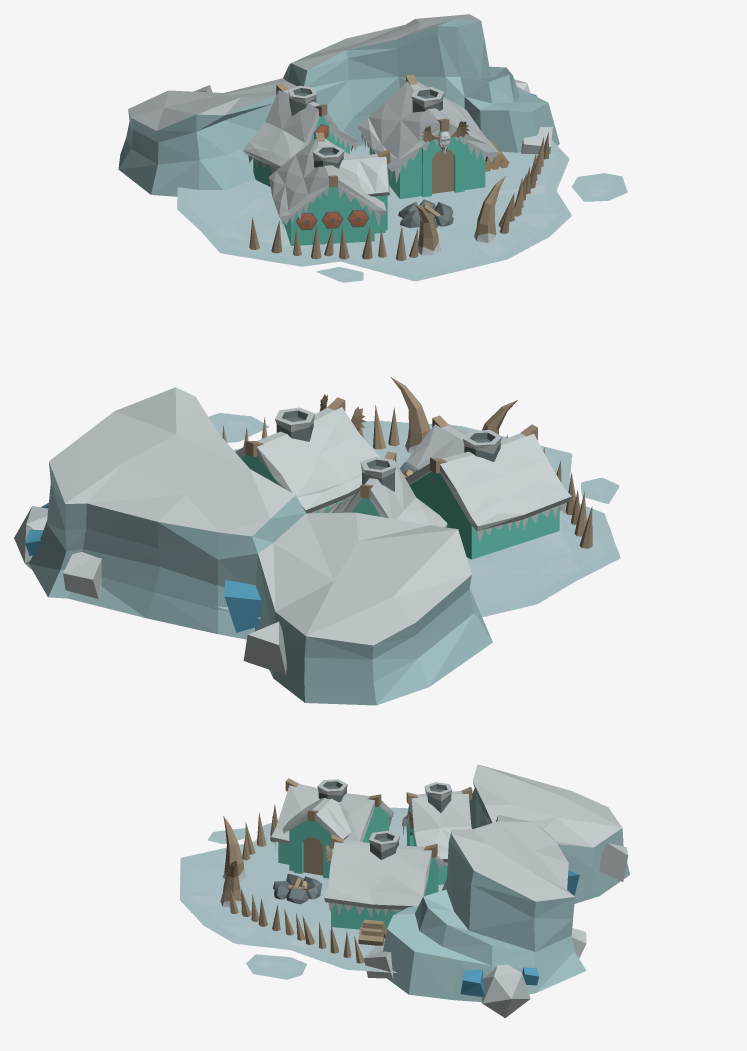
Rendered from townArctic01.fbx.
3 renders of one model, top to bottom at view 1: azimuth 30°, elevation 25°; view 2: azimuth 150°, elevation 25°; view 3: azimuth 270°, elevation 25°, orthographic. The views are drawn at different scales.
Visible parts, largest first — view 1: townArctic01, groundDecal; view 2: townArctic01, groundDecal; view 3: townArctic01, groundDecal.
Part boxes in pixels (box(x1,y1,x2,y2)): townArctic01: box(118, 14, 559, 260); groundDecal: box(177, 140, 627, 282); townArctic01: box(14, 376, 592, 705); groundDecal: box(208, 413, 620, 618); townArctic01: box(220, 764, 629, 1018); groundDecal: box(180, 807, 443, 979).
Bounding box in the file's own units: 11.1 × 2.44 × 11.16.
